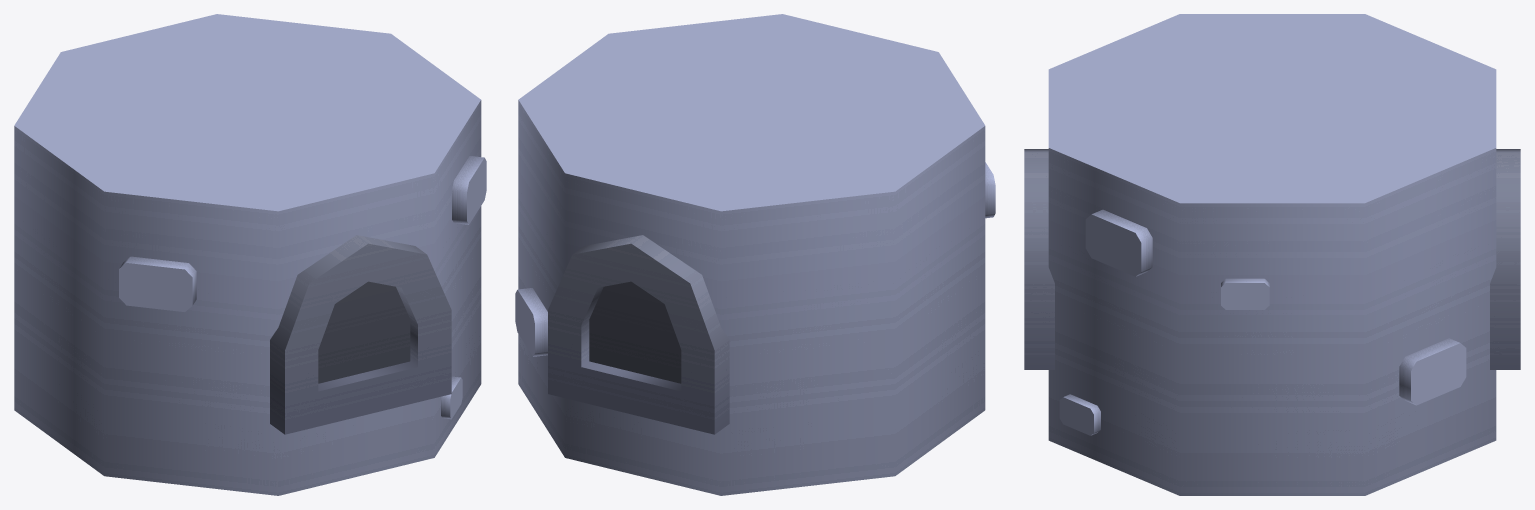
File: tower-middle-windows_lev2.glb
3 views of the same model, side by side, from view 1: azimuth 30°, elevation 25°; view 2: azimuth 150°, elevation 25°; view 3: azimuth 270°, elevation 25° (orthographic). The views are drawn at different scales.
Parts seen in each view (by area): view 1: tower-middle-windows_lev2; view 2: tower-middle-windows_lev2; view 3: tower-middle-windows_lev2.
Part boxes in pixels (box(x1,y1,x2,y2)): tower-middle-windows_lev2: box(14, 14, 486, 495); tower-middle-windows_lev2: box(515, 14, 995, 495); tower-middle-windows_lev2: box(1024, 14, 1520, 495).
Bounding box in the file's own units: 5.62 × 3.97 × 6.09.
1 material, 1 textured.
